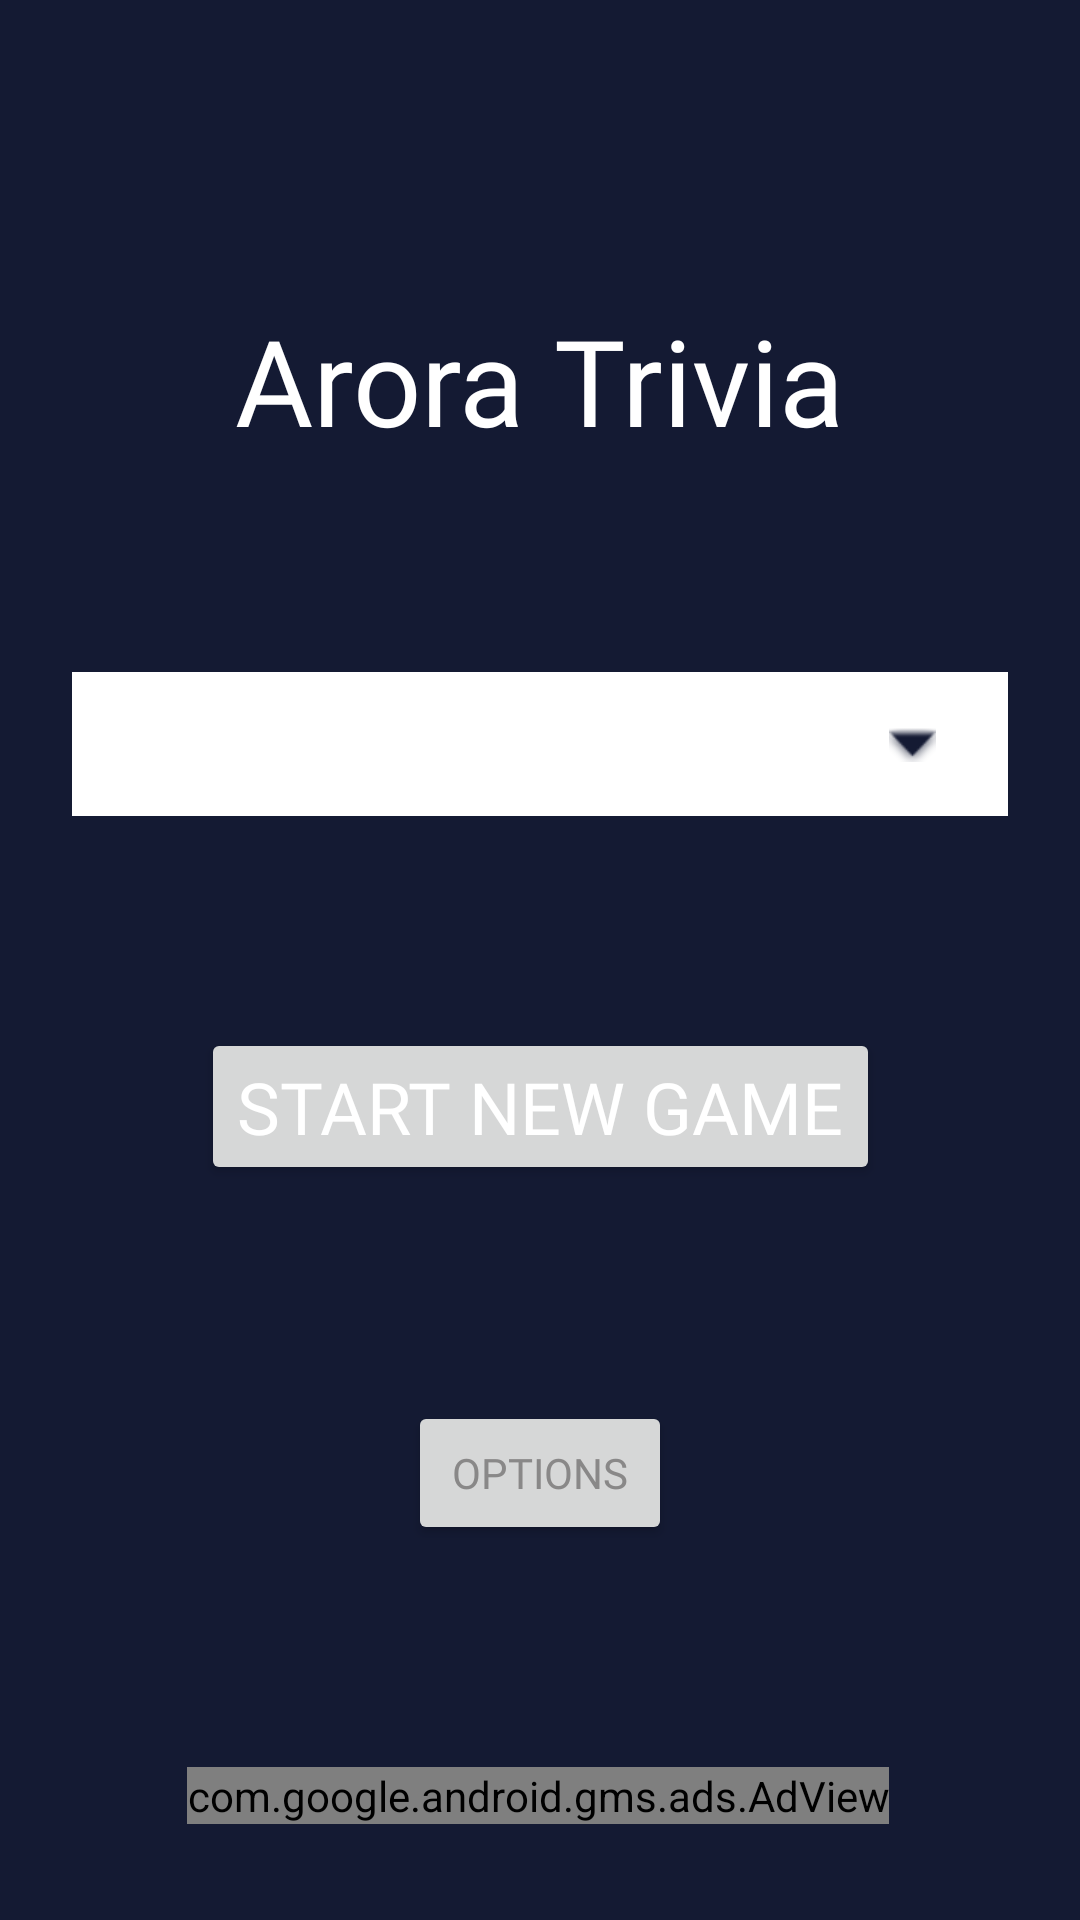

Where icons sit on this 1080 × 1920 app screen, as (x1, y1, x2, y2):
Downward arrow: (889, 729, 936, 761)
